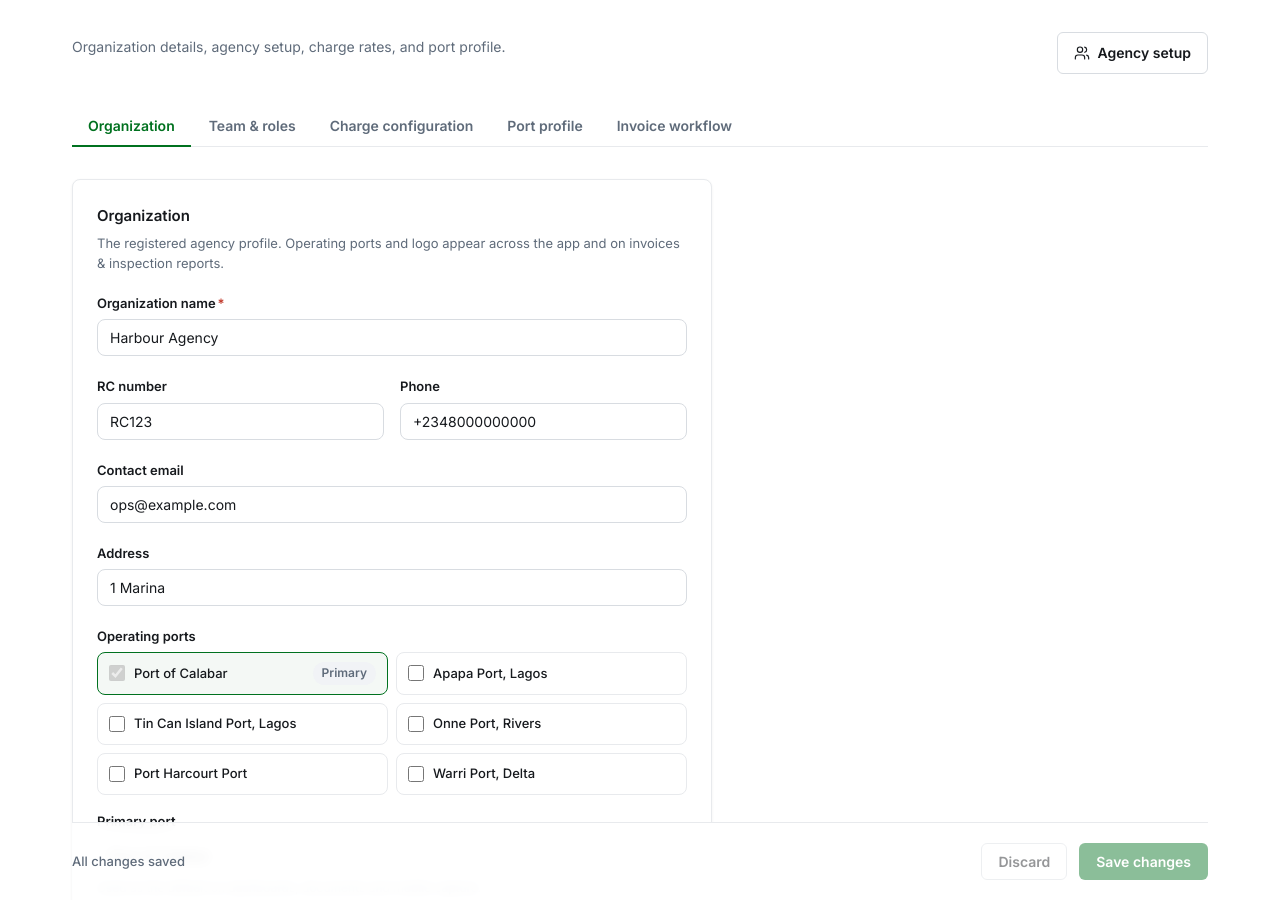
Test: Settings › lets an admin validate and save role-targeted notification settings
What coordinates should you click on to do the following:
click the tab "Invoice workflow"
I would click on:
 (674, 126)
Its box is [601,106,748,147].
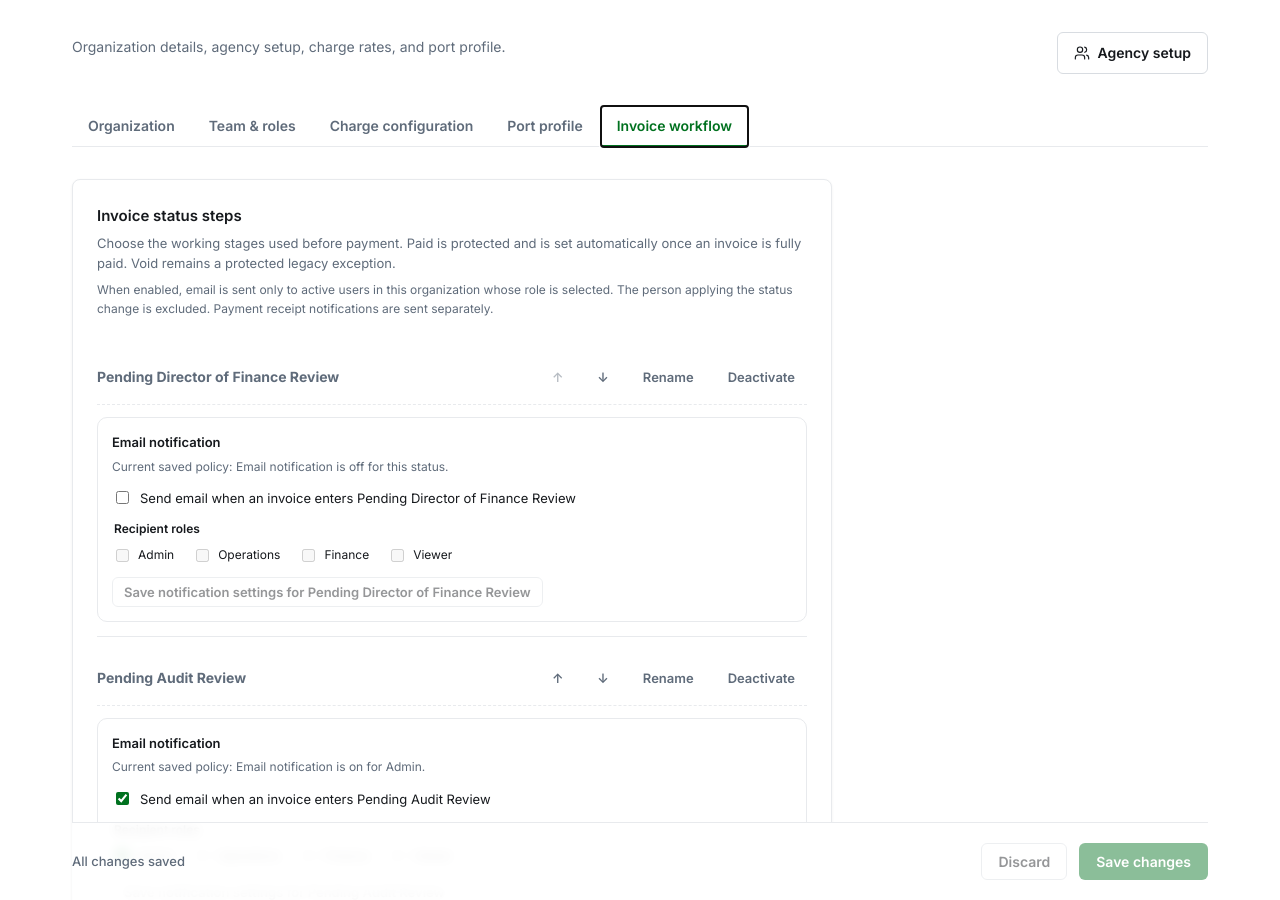
Now the button "Save notification settings for Pending Director of Finance Review" is disabled, box [112,577,543,607]
What coordinates should you click on to do the following:
click the checkbox labelled "Send email when an invoice enters Pending Director of Finance Review"
I would click on:
 (122, 498)
Its box is [116,491,129,504].
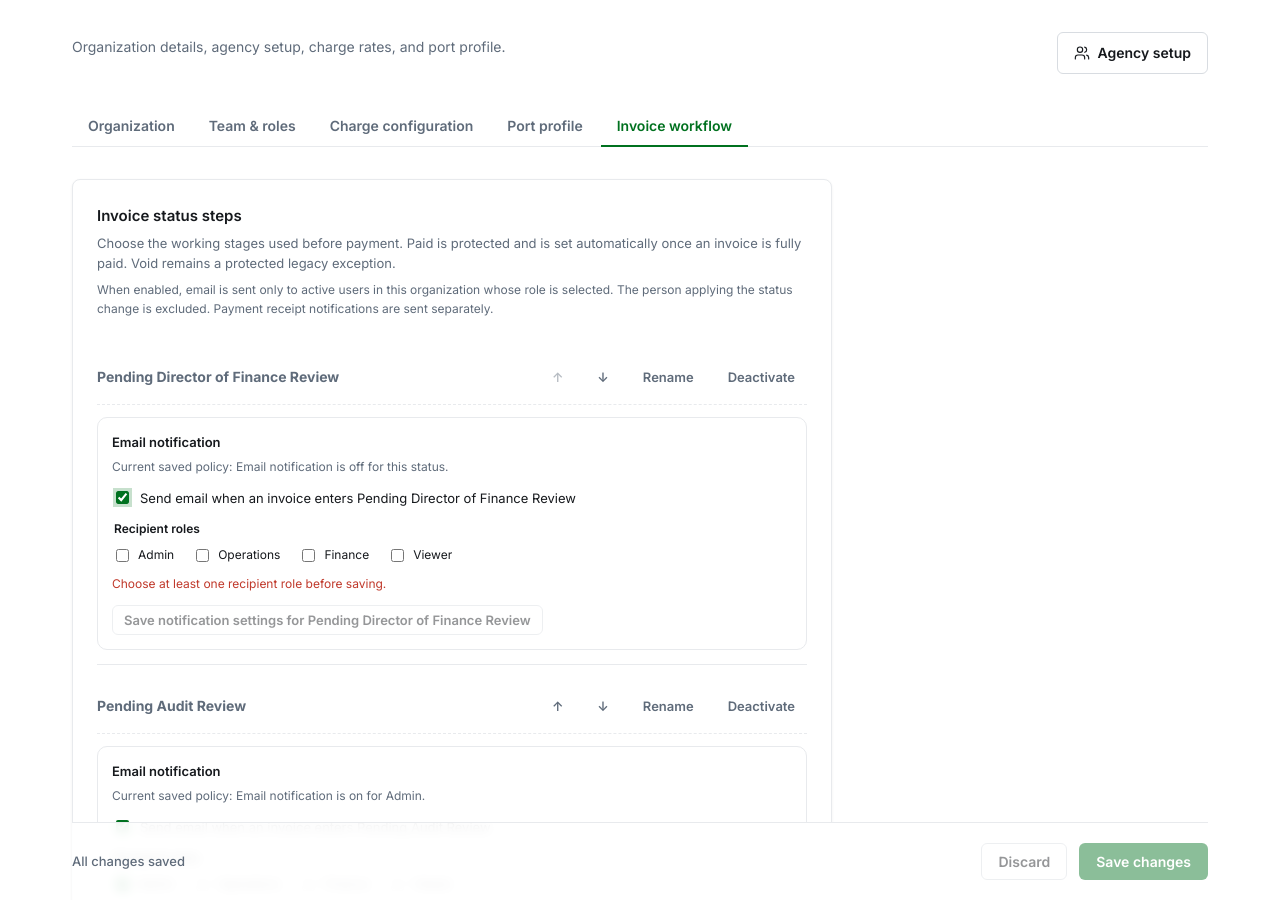
Now the button "Save notification settings for Pending Director of Finance Review" is disabled, box [112,606,543,636]
Now the message reads "Choose at least one recipient role before saving.", box [112,576,386,591]
What coordinates should you click on to do the following:
click the checkbox named "Admin recipients for Pending Director of Finance Review"
I would click on:
 (122, 555)
Its box is [116,549,129,562].
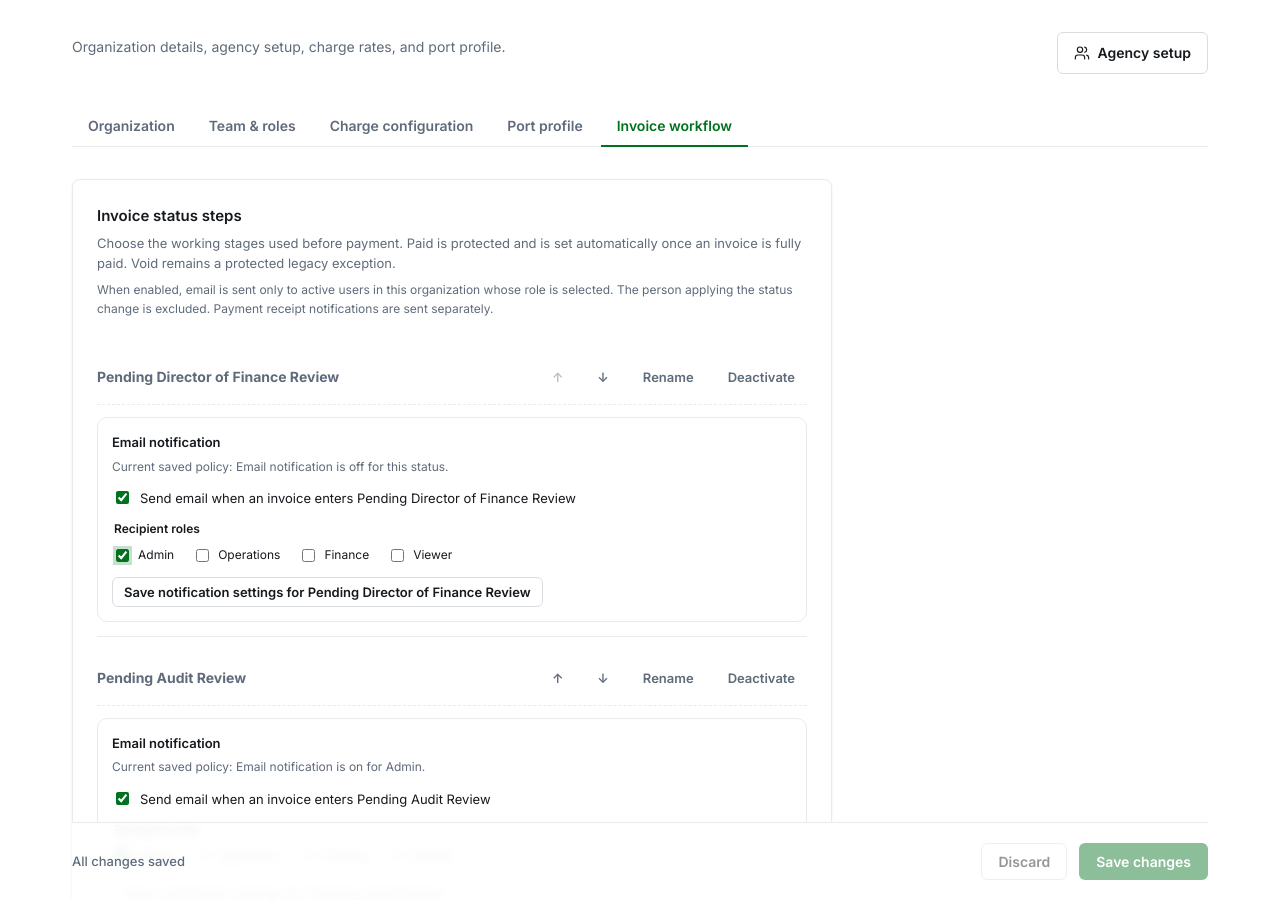
What coordinates should you click on to do the following:
click the checkbox named "Finance recipients for Pending Director of Finance Review"
I would click on:
 (309, 555)
Its box is [302,549,315,562].
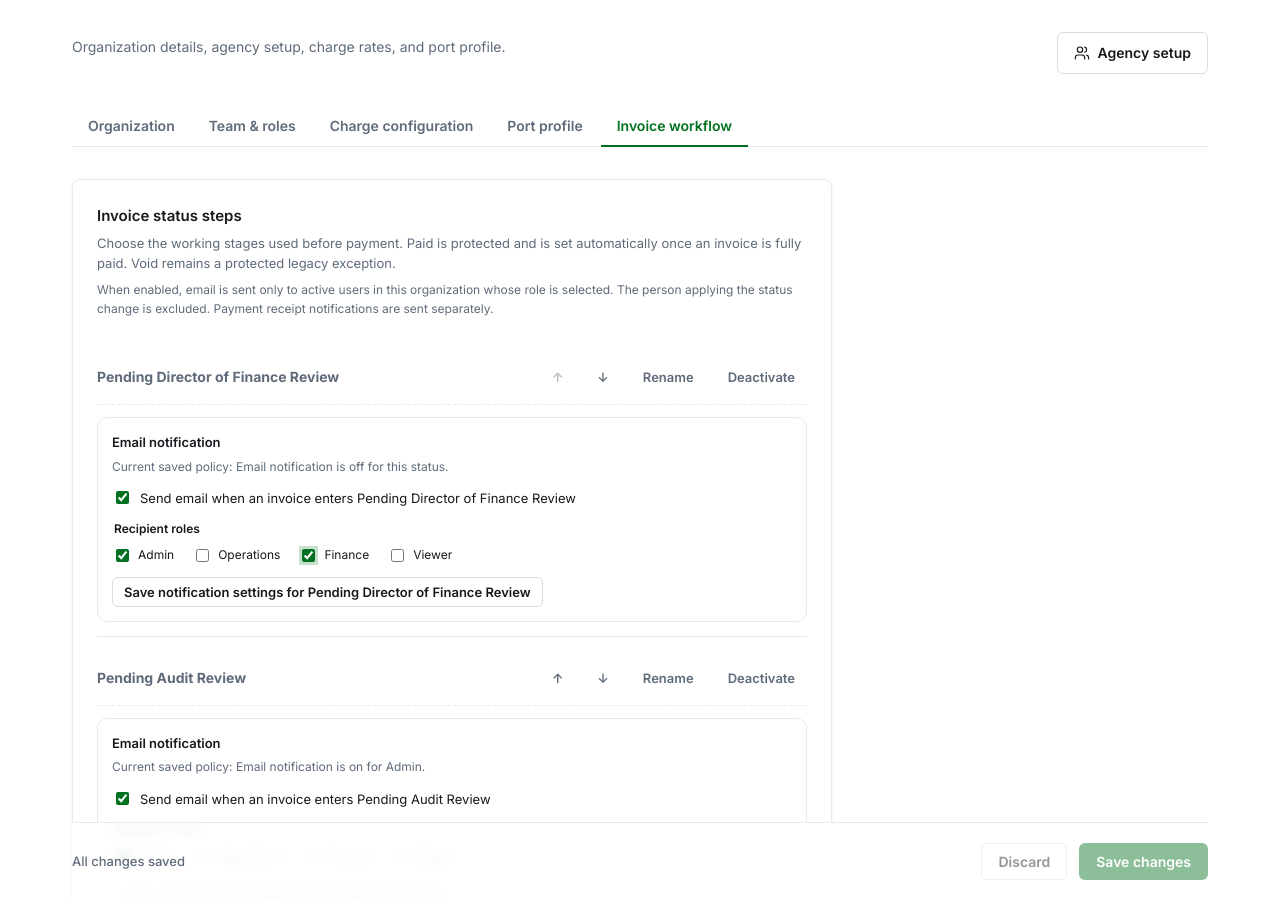
Now the button "Save notification settings for Pending Director of Finance Review" is enabled
What coordinates should you click on to do the following:
click the button "Save notification settings for Pending Director of Finance Review"
I would click on:
 (327, 592)
Its box is [112,577,543,607].
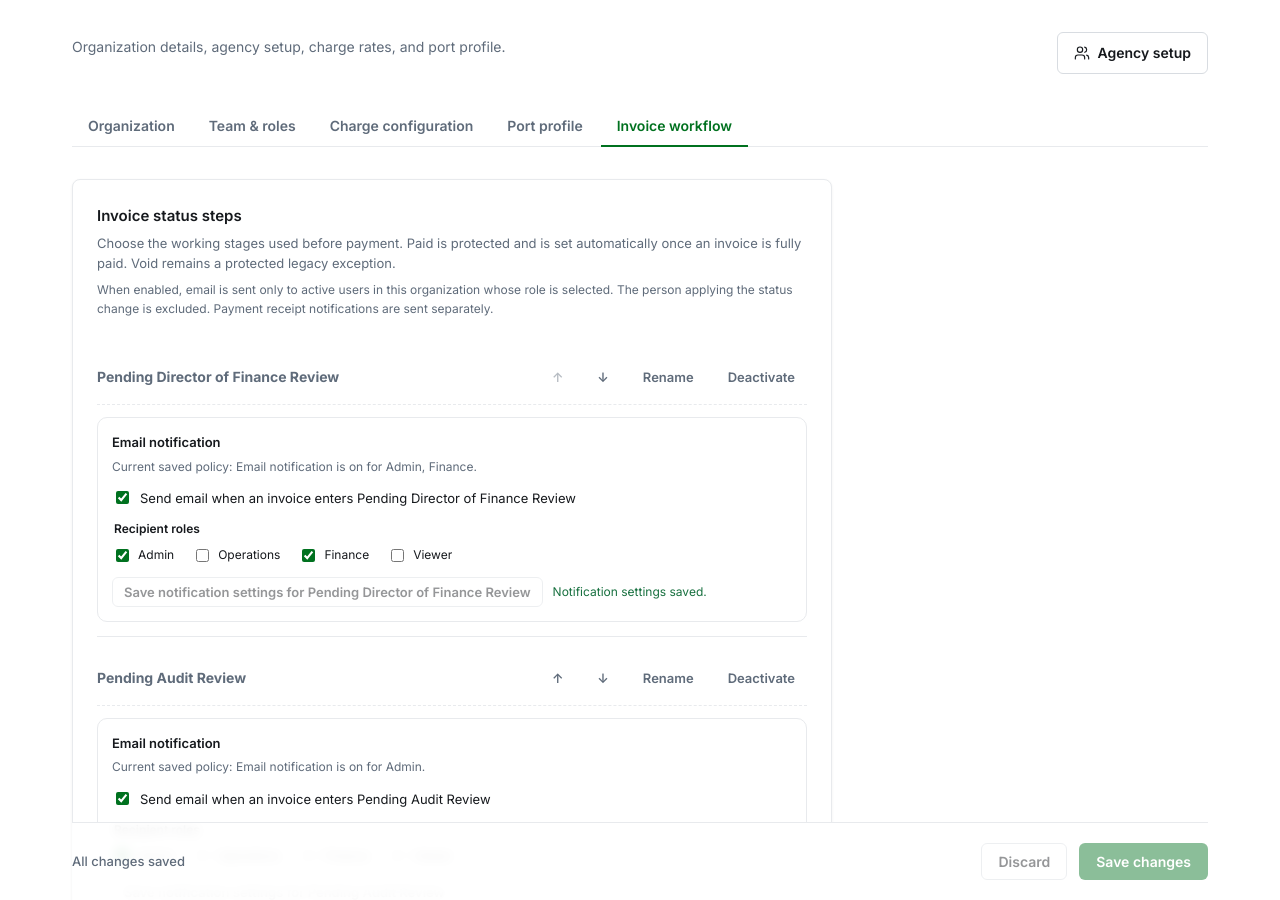
Now the message reads "Notification settings saved.", box [553,584,707,599]
Now the button "Save notification settings for Pending Director of Finance Review" is disabled, box [112,577,543,607]
